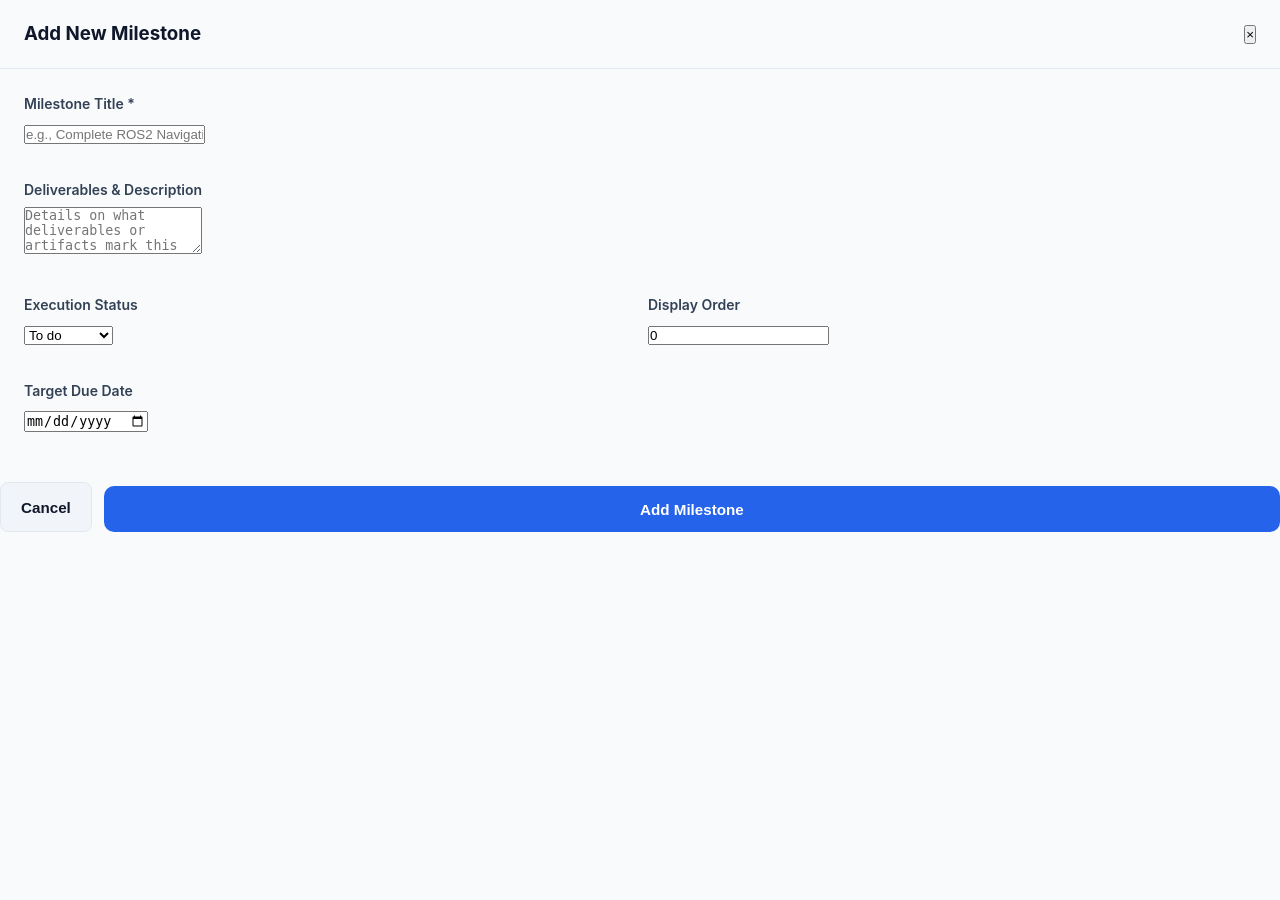
Scenario: ProjectMilestoneModal Component › validates title minimum length and requiredness
The width and height of the screenshot is (1280, 900).
Type "a" into the field labelled "Milestone Title *" at point(114, 135), box [24,125,205,144]
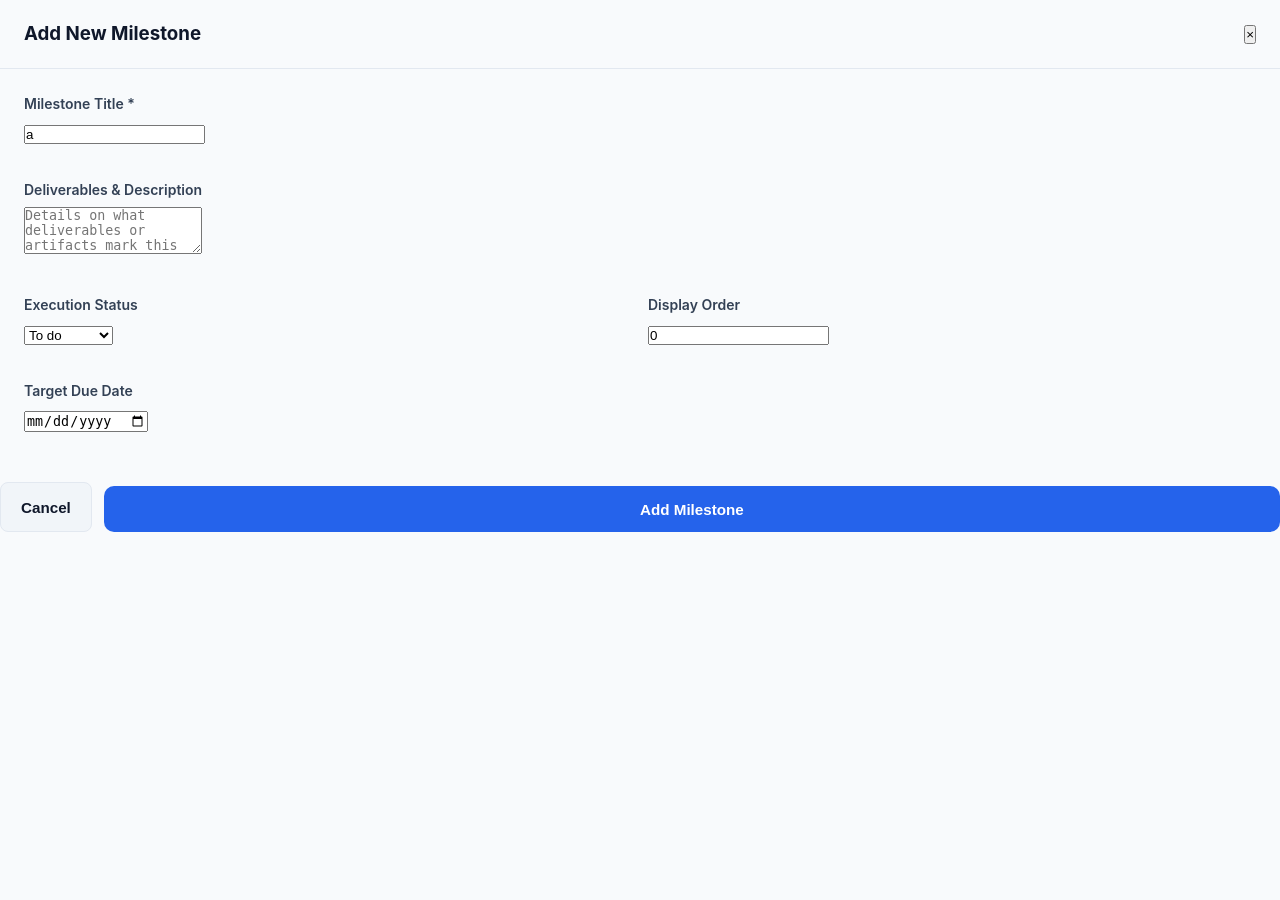
Click the button "Add Milestone" at point(692, 509), box [104,486,1279,532]
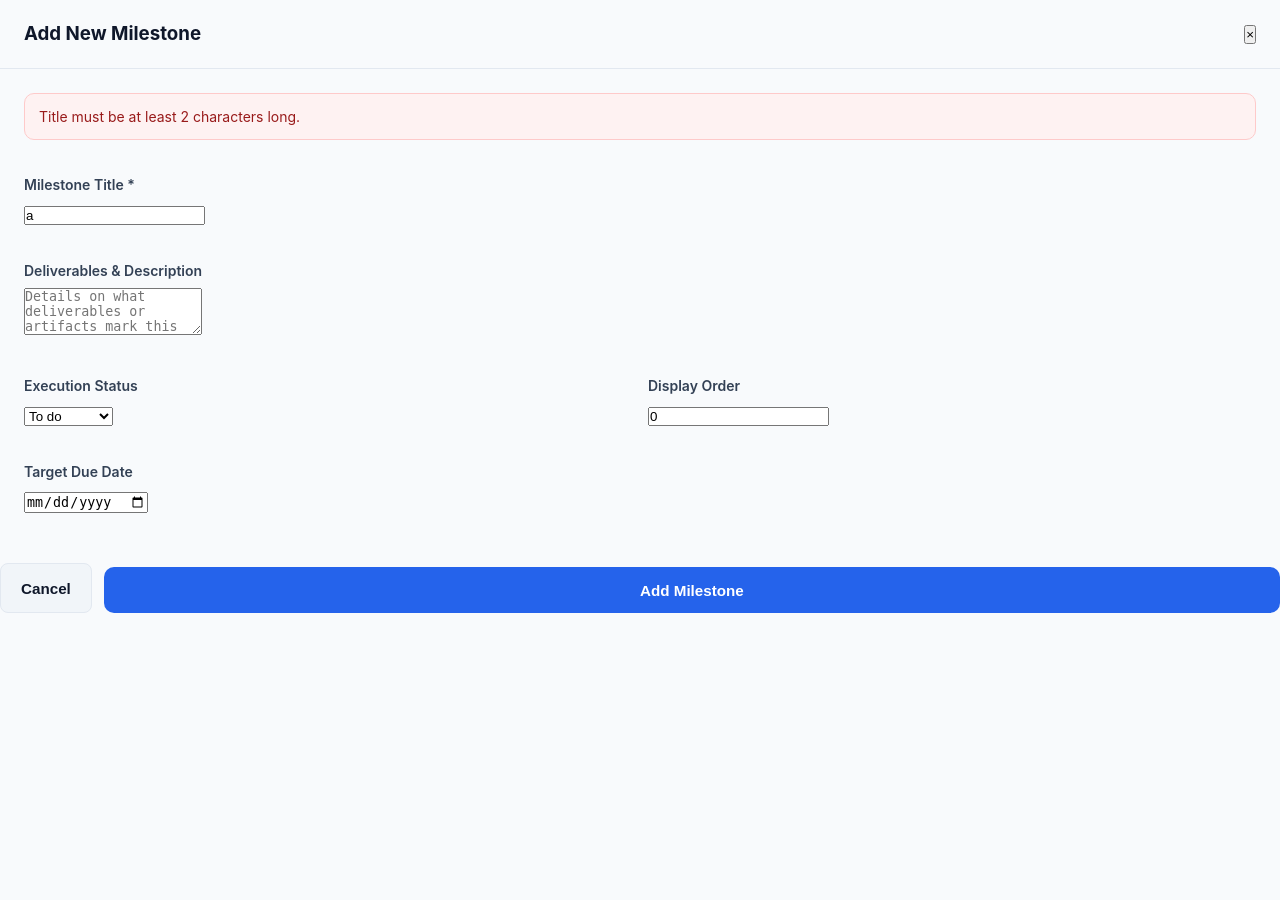
expect the message reads "Title must be at least 2 characters long.": met, box [39,108,300,125]
